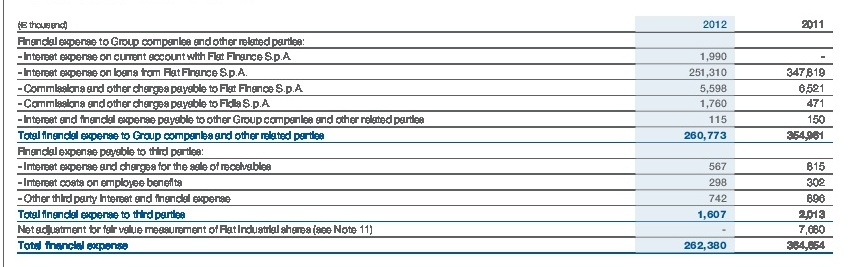table: (0, 0, 850, 267)
